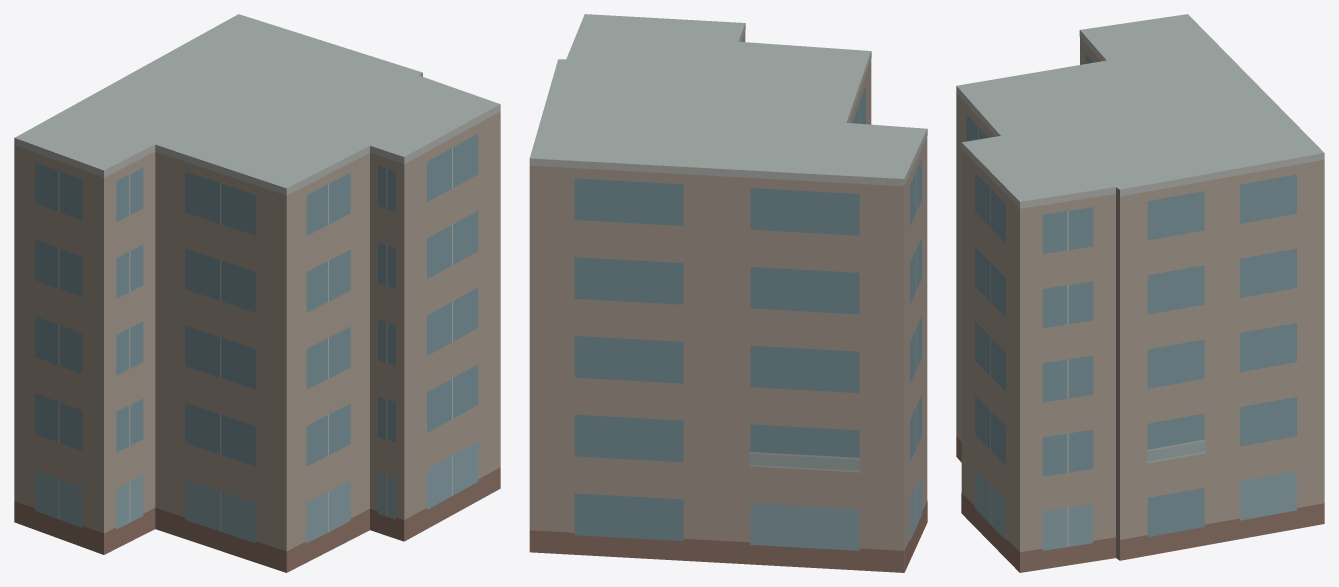
File: survey-upis-33027446.glb
3 renders of one model, left to right at view 1: azimuth 30°, elevation 25°; view 2: azimuth 150°, elevation 25°; view 3: azimuth 270°, elevation 25°, orthographic. The views are drawn at different scales.
Parts seen in each view (by area): view 1: survey-upis-33027446.tmp; view 2: survey-upis-33027446.tmp; view 3: survey-upis-33027446.tmp.
Part boxes in pixels (x1,y1,x2,y2): survey-upis-33027446.tmp: (14, 14, 500, 572); survey-upis-33027446.tmp: (529, 14, 927, 572); survey-upis-33027446.tmp: (956, 14, 1324, 572).
Bounding box in the file's own units: 14.35 × 13.2 × 11.88.
